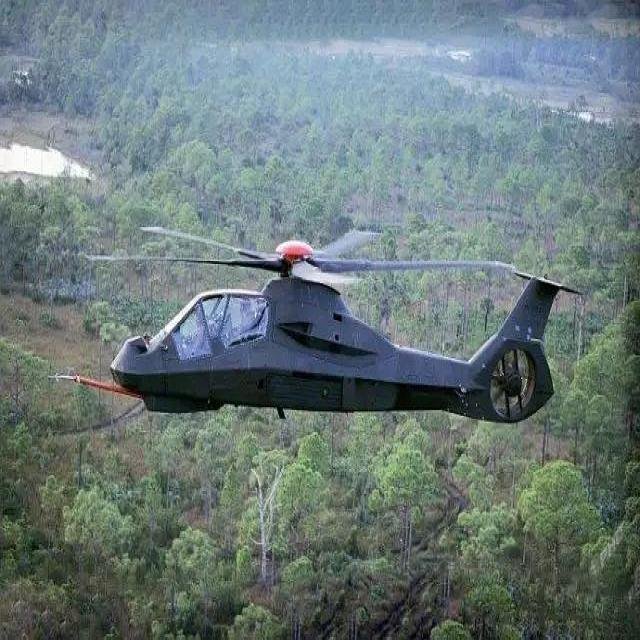MIL_HELO: (47, 191, 586, 442)
